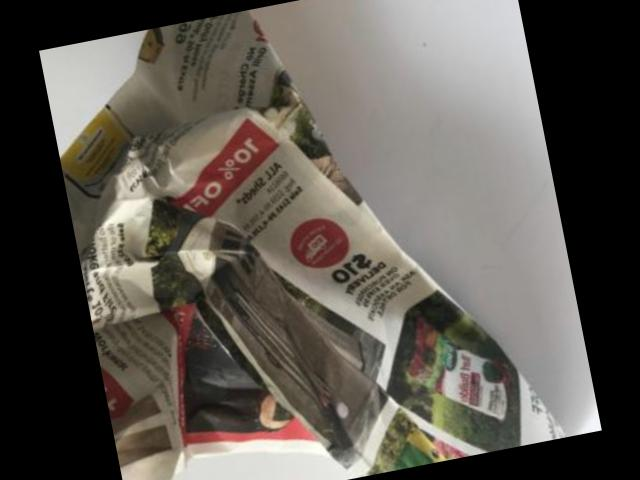cardboard paper: (59, 9, 567, 480)
